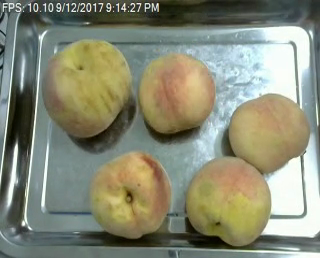Peach: (41, 37, 131, 139), (186, 156, 271, 247), (89, 151, 170, 238), (229, 93, 308, 172), (139, 52, 216, 133)
